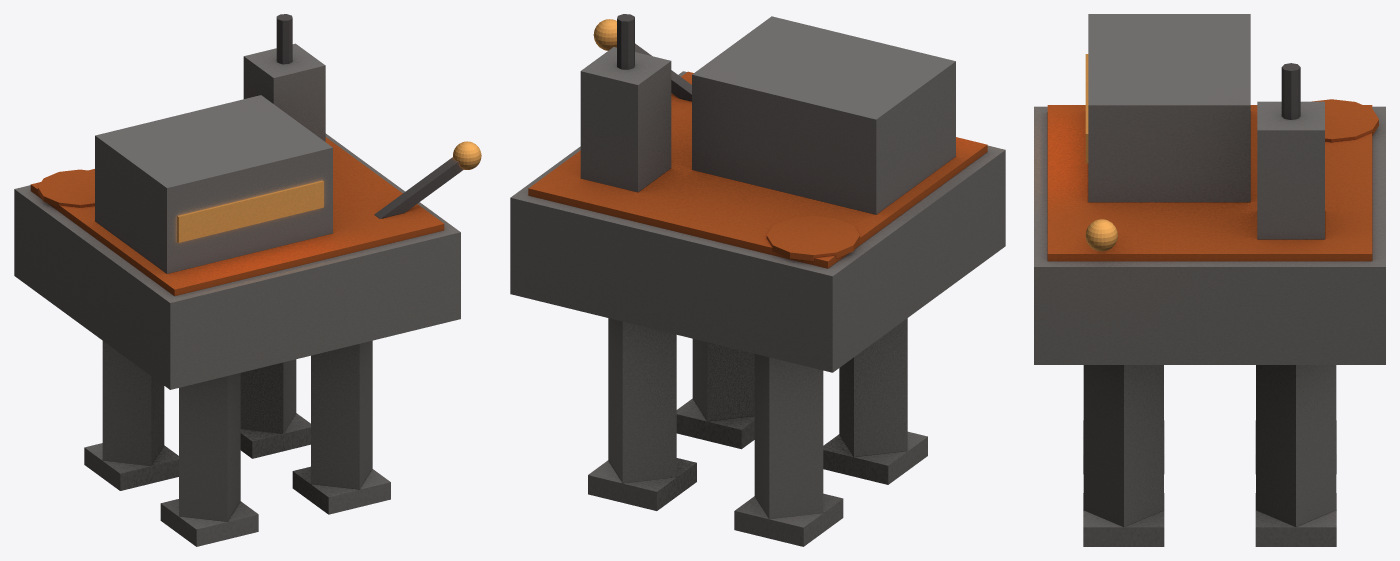
Rendered from drilling_rig_script.glb.
3 views of the same model, side by side, from view 1: azimuth 30°, elevation 25°; view 2: azimuth 150°, elevation 25°; view 3: azimuth 270°, elevation 25° (orthographic). The views are drawn at different scales.
Parts seen in each view (by area): view 1: Cube; view 2: Cube; view 3: Cube.
Part boxes in pixels (x1,y1,x2,y2): Cube: (14, 14, 481, 546); Cube: (510, 14, 1005, 546); Cube: (1034, 14, 1385, 546).
Bounding box in the file's own units: 32.7 × 38.5 × 26.
1 material, 1 textured.
